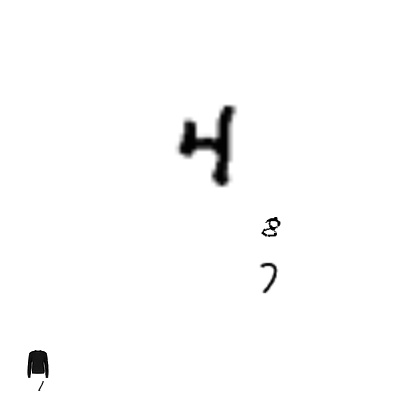1: (34, 379, 48, 393)
4: (152, 86, 264, 198)
7: (248, 254, 290, 296)
8: (257, 213, 285, 241)
Pullover: (24, 350, 52, 378)
